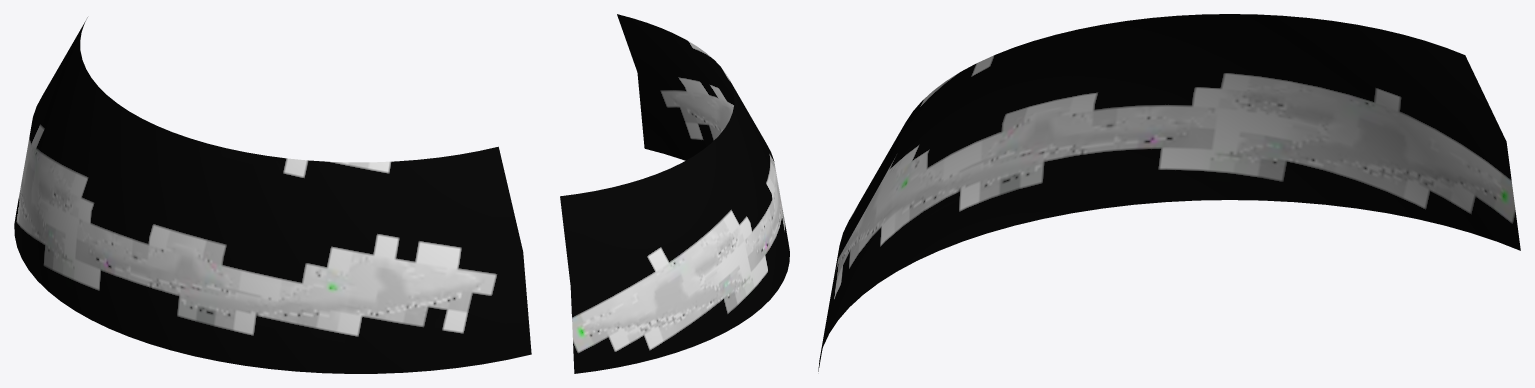
3 renders of one model, left to right at view 1: azimuth 30°, elevation 25°; view 2: azimuth 150°, elevation 25°; view 3: azimuth 270°, elevation 25°, orthographic. The views are drawn at different scales.
Parts seen in each view (by area): view 1: body0_model0_lod0_mesh0; view 2: body0_model0_lod0_mesh0; view 3: body0_model0_lod0_mesh0.
Part boxes in pixels (left/top/right/bottom): body0_model0_lod0_mesh0: left=14, top=17, right=531, bottom=373; body0_model0_lod0_mesh0: left=560, top=14, right=789, bottom=373; body0_model0_lod0_mesh0: left=818, top=14, right=1520, bottom=371.
Bounding box in the file's own units: 1535 × 902 × 2621.
1 material, 1 textured.
